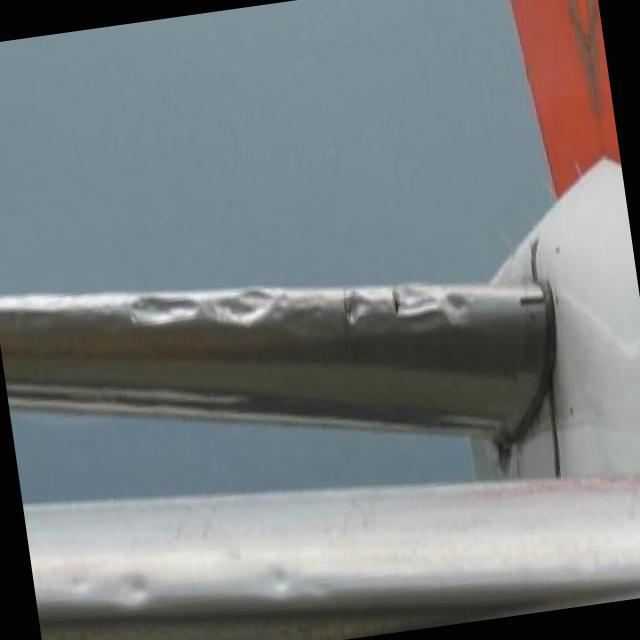dent: (122, 290, 204, 337), (204, 284, 282, 328), (390, 278, 440, 320), (112, 568, 156, 613), (262, 559, 304, 600), (339, 286, 374, 330), (440, 284, 474, 328)
